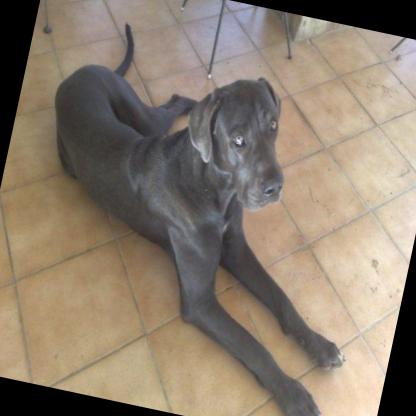Great_Dane: (0, 6, 405, 416)
